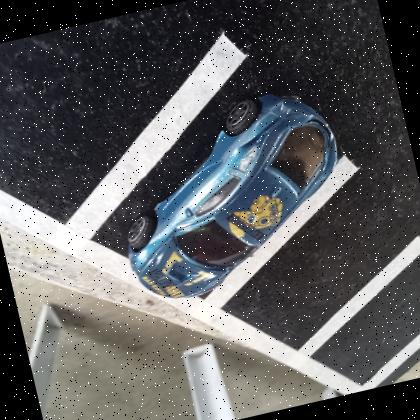Car: (127, 92, 337, 298)
